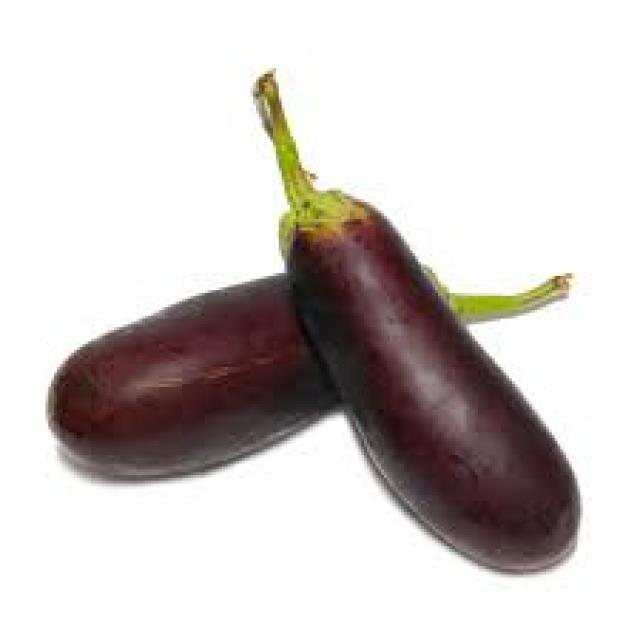eggplant: (290, 188, 578, 569), (46, 265, 467, 472)
